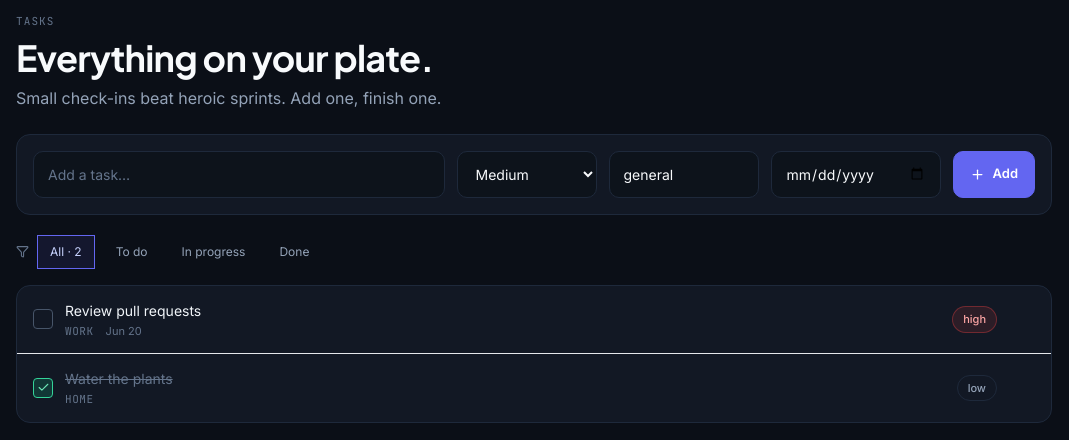
Scenario: Tasks Page › filters task list by status
Click the button with test id "task-filter-done". click: (294, 252)
box: [266, 234, 322, 268]
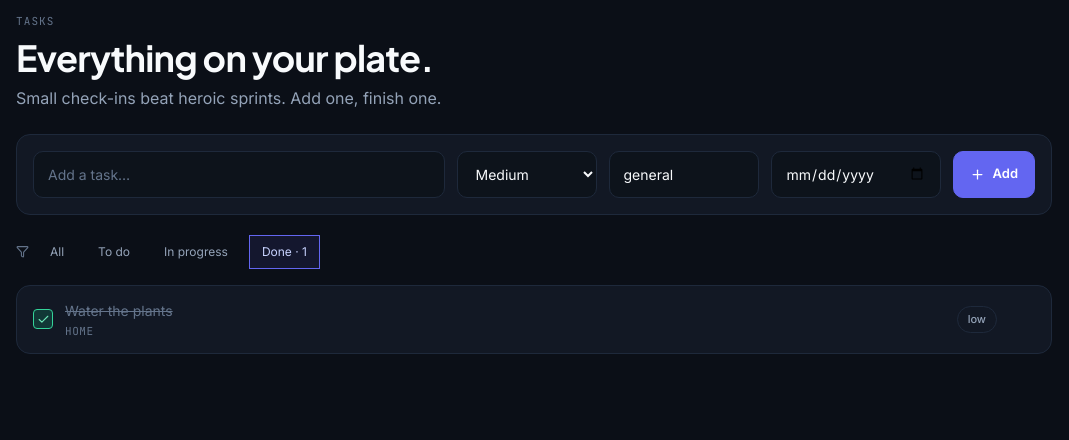
Expected: the text "Water the plants" is shown, [65, 302, 173, 318]
Expected: the text "Review pull requests" is gone
